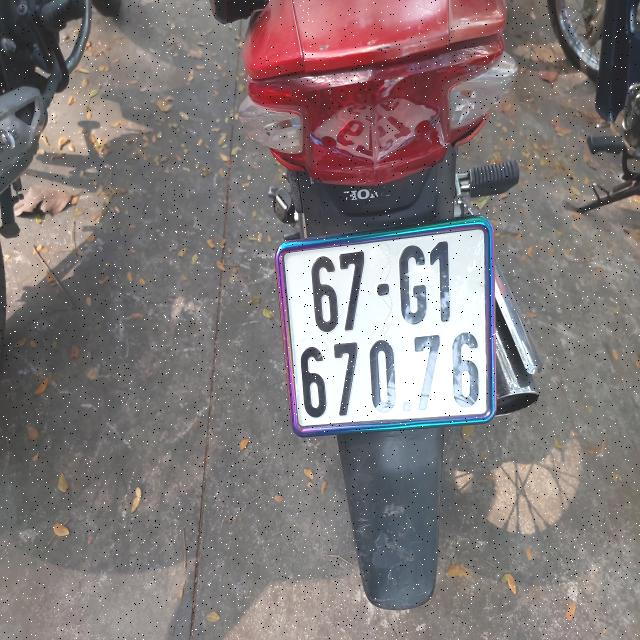0: (367, 338, 400, 417)
1: (428, 238, 456, 325)
6: (308, 255, 338, 334), (451, 330, 480, 408), (334, 338, 361, 416), (300, 348, 328, 417)
7: (410, 335, 444, 410), (339, 251, 367, 329)
G: (397, 245, 427, 326)
